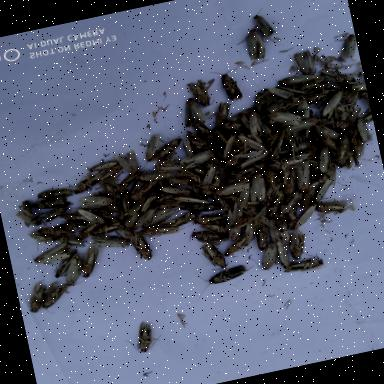pbw: (120, 313, 172, 361), (204, 62, 249, 109), (56, 166, 117, 200), (175, 220, 235, 254), (276, 246, 332, 281), (23, 176, 80, 210), (25, 217, 80, 252), (194, 236, 237, 280), (138, 134, 190, 170), (128, 160, 183, 194), (240, 234, 284, 276), (308, 191, 362, 225), (26, 236, 80, 270), (42, 246, 90, 284), (272, 222, 313, 266), (215, 196, 251, 246), (104, 142, 148, 182), (181, 72, 223, 113), (64, 187, 121, 217), (66, 243, 107, 284), (176, 122, 216, 164), (16, 276, 56, 318), (231, 24, 271, 65), (58, 216, 106, 250), (20, 202, 74, 232), (118, 200, 165, 234), (33, 277, 77, 313), (179, 92, 213, 138), (173, 143, 225, 173), (122, 228, 159, 270), (174, 194, 228, 222), (18, 191, 72, 219), (214, 109, 265, 138), (87, 228, 136, 258), (134, 218, 186, 246), (9, 195, 44, 236), (285, 156, 319, 198), (258, 125, 294, 164), (261, 103, 306, 134), (247, 5, 280, 47), (313, 85, 350, 122), (122, 188, 164, 220), (286, 46, 322, 83), (76, 152, 125, 179), (274, 66, 324, 92), (233, 125, 269, 161), (285, 200, 325, 232), (166, 186, 211, 214), (306, 168, 340, 204), (205, 176, 255, 200), (161, 208, 207, 234), (252, 81, 290, 112), (152, 176, 194, 204), (310, 118, 344, 152), (264, 236, 294, 274), (242, 168, 272, 206), (108, 210, 138, 248), (218, 230, 258, 258), (312, 141, 342, 178), (339, 123, 366, 164), (268, 148, 314, 172), (106, 188, 136, 224), (279, 113, 324, 137), (332, 104, 368, 134), (226, 150, 272, 173), (206, 99, 238, 131), (186, 210, 234, 231), (76, 203, 108, 234), (194, 162, 225, 194), (210, 132, 240, 164), (249, 218, 274, 256), (291, 76, 333, 98), (330, 130, 357, 164), (242, 106, 268, 141), (324, 142, 351, 174), (292, 183, 320, 212), (334, 29, 360, 60), (228, 145, 270, 164), (140, 131, 166, 160), (274, 160, 300, 188), (264, 192, 288, 222), (230, 208, 260, 230), (94, 164, 124, 184), (354, 114, 374, 144)
